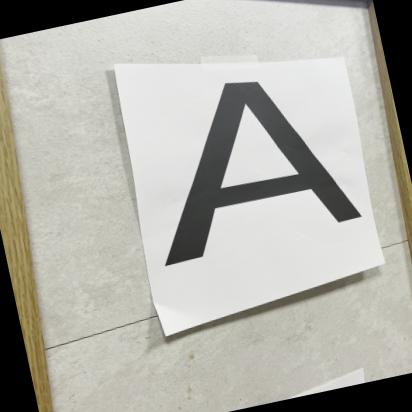seat: (121, 55, 375, 276)
